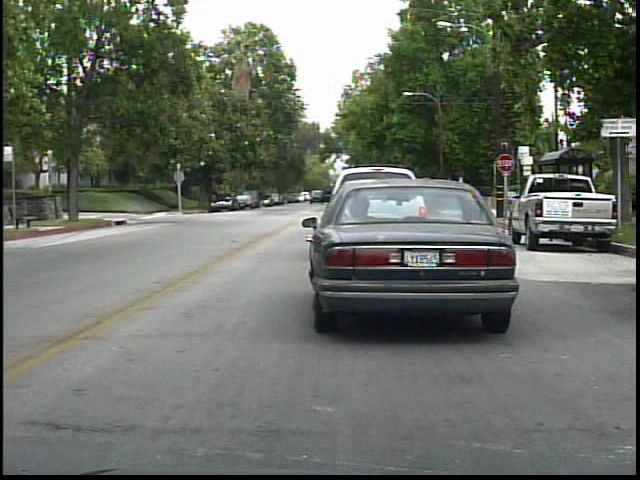person: (233, 184, 248, 210)
